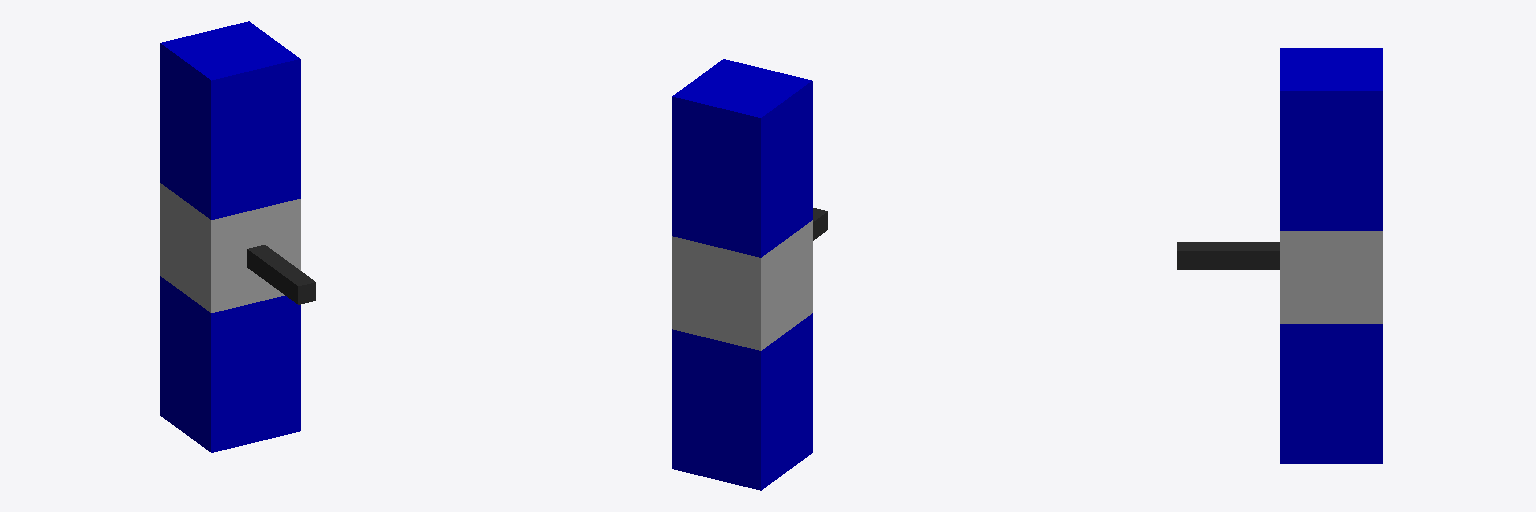
File: cubesat.obj
3 views of the same model, side by side, from view 1: azimuth 30°, elevation 25°; view 2: azimuth 150°, elevation 25°; view 3: azimuth 270°, elevation 25° (orthographic).
Parts seen in each view (by area): view 1: SolarPanelPlusY, SolarPanelMinusY, Body, Antenna; view 2: SolarPanelPlusY, SolarPanelMinusY, Body; view 3: SolarPanelPlusY, SolarPanelMinusY, Body, Antenna.
Boxes of the visible parts, x1,y1,x2,y2 form: SolarPanelPlusY: [160, 21, 300, 219]; SolarPanelMinusY: [160, 276, 300, 452]; Body: [160, 183, 300, 312]; Antenna: [247, 245, 315, 304]; SolarPanelPlusY: [672, 59, 812, 257]; SolarPanelMinusY: [672, 313, 812, 490]; Body: [672, 220, 812, 350]; SolarPanelPlusY: [1280, 48, 1382, 230]; SolarPanelMinusY: [1280, 324, 1382, 463]; Body: [1280, 231, 1382, 323]; Antenna: [1177, 242, 1279, 269].
Size of the model in its own units: 1 by 4 by 2.